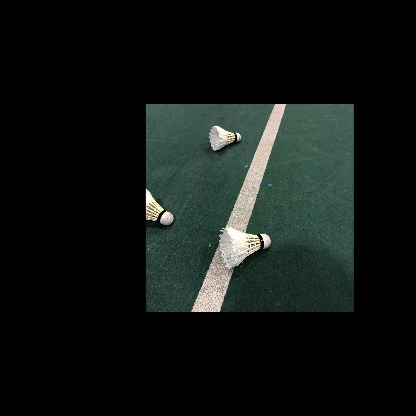ball_single: (219, 227, 271, 269), (146, 189, 174, 225), (209, 126, 241, 151)
